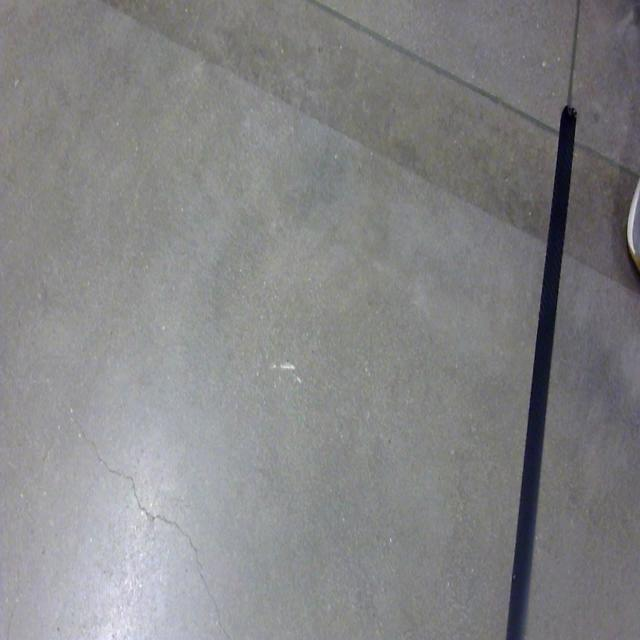tape: (506, 106, 577, 640)
